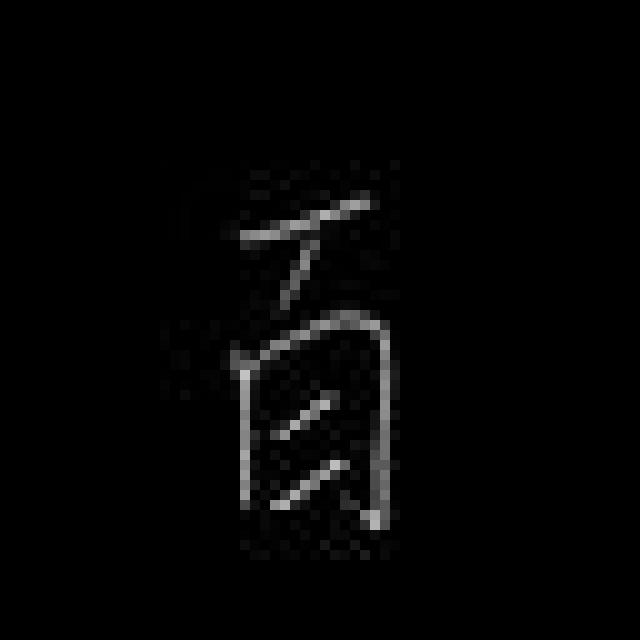100 -a hundred-: (214, 178, 403, 534)
